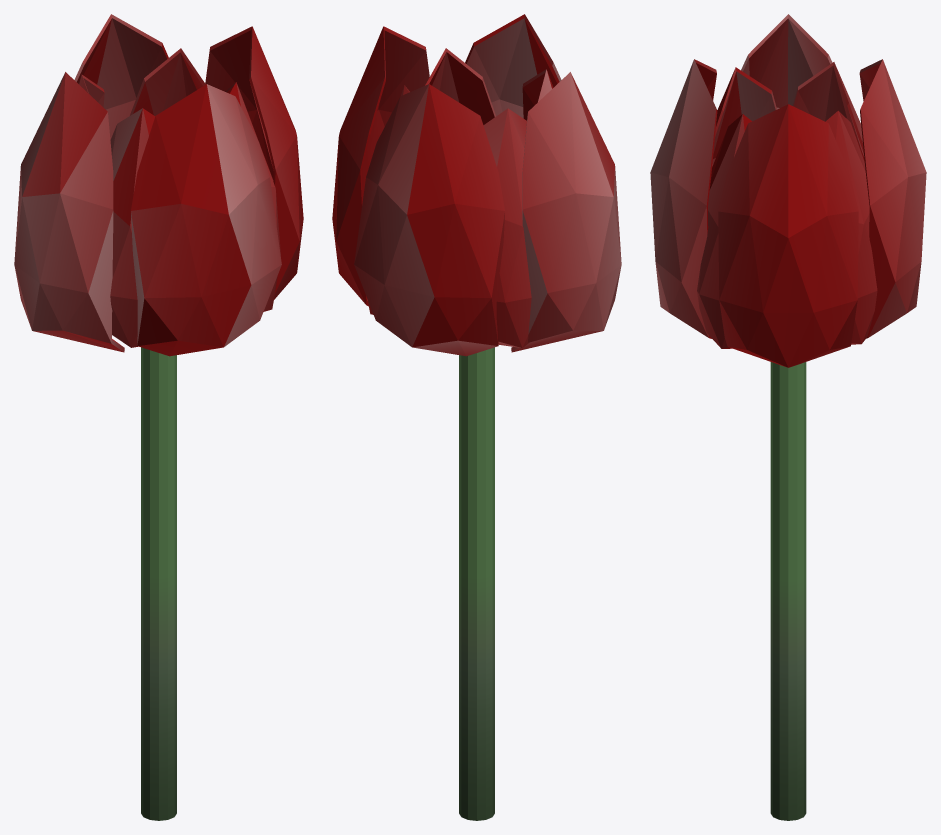
File: Tulip3.fbx
3 renders of one model, left to right at view 1: azimuth 30°, elevation 25°; view 2: azimuth 150°, elevation 25°; view 3: azimuth 270°, elevation 25°, orthographic.
Visible parts, largest first — view 1: Icosphere.023; view 2: Icosphere.023; view 3: Icosphere.023.
Part boxes in pixels (bbox=[...]): Icosphere.023: bbox=[14, 14, 303, 820]; Icosphere.023: bbox=[332, 14, 621, 820]; Icosphere.023: bbox=[650, 14, 926, 820].
Size of the model in its own units: 86.44 by 231 by 76.55.
